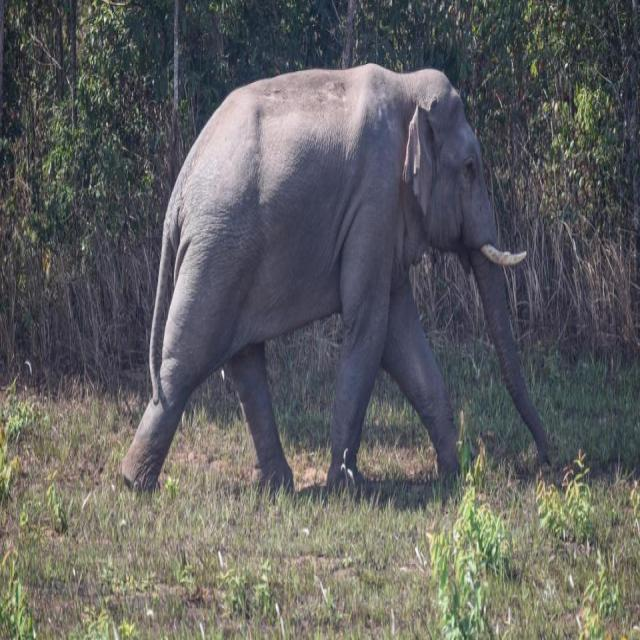Elephant: (119, 51, 576, 552)
